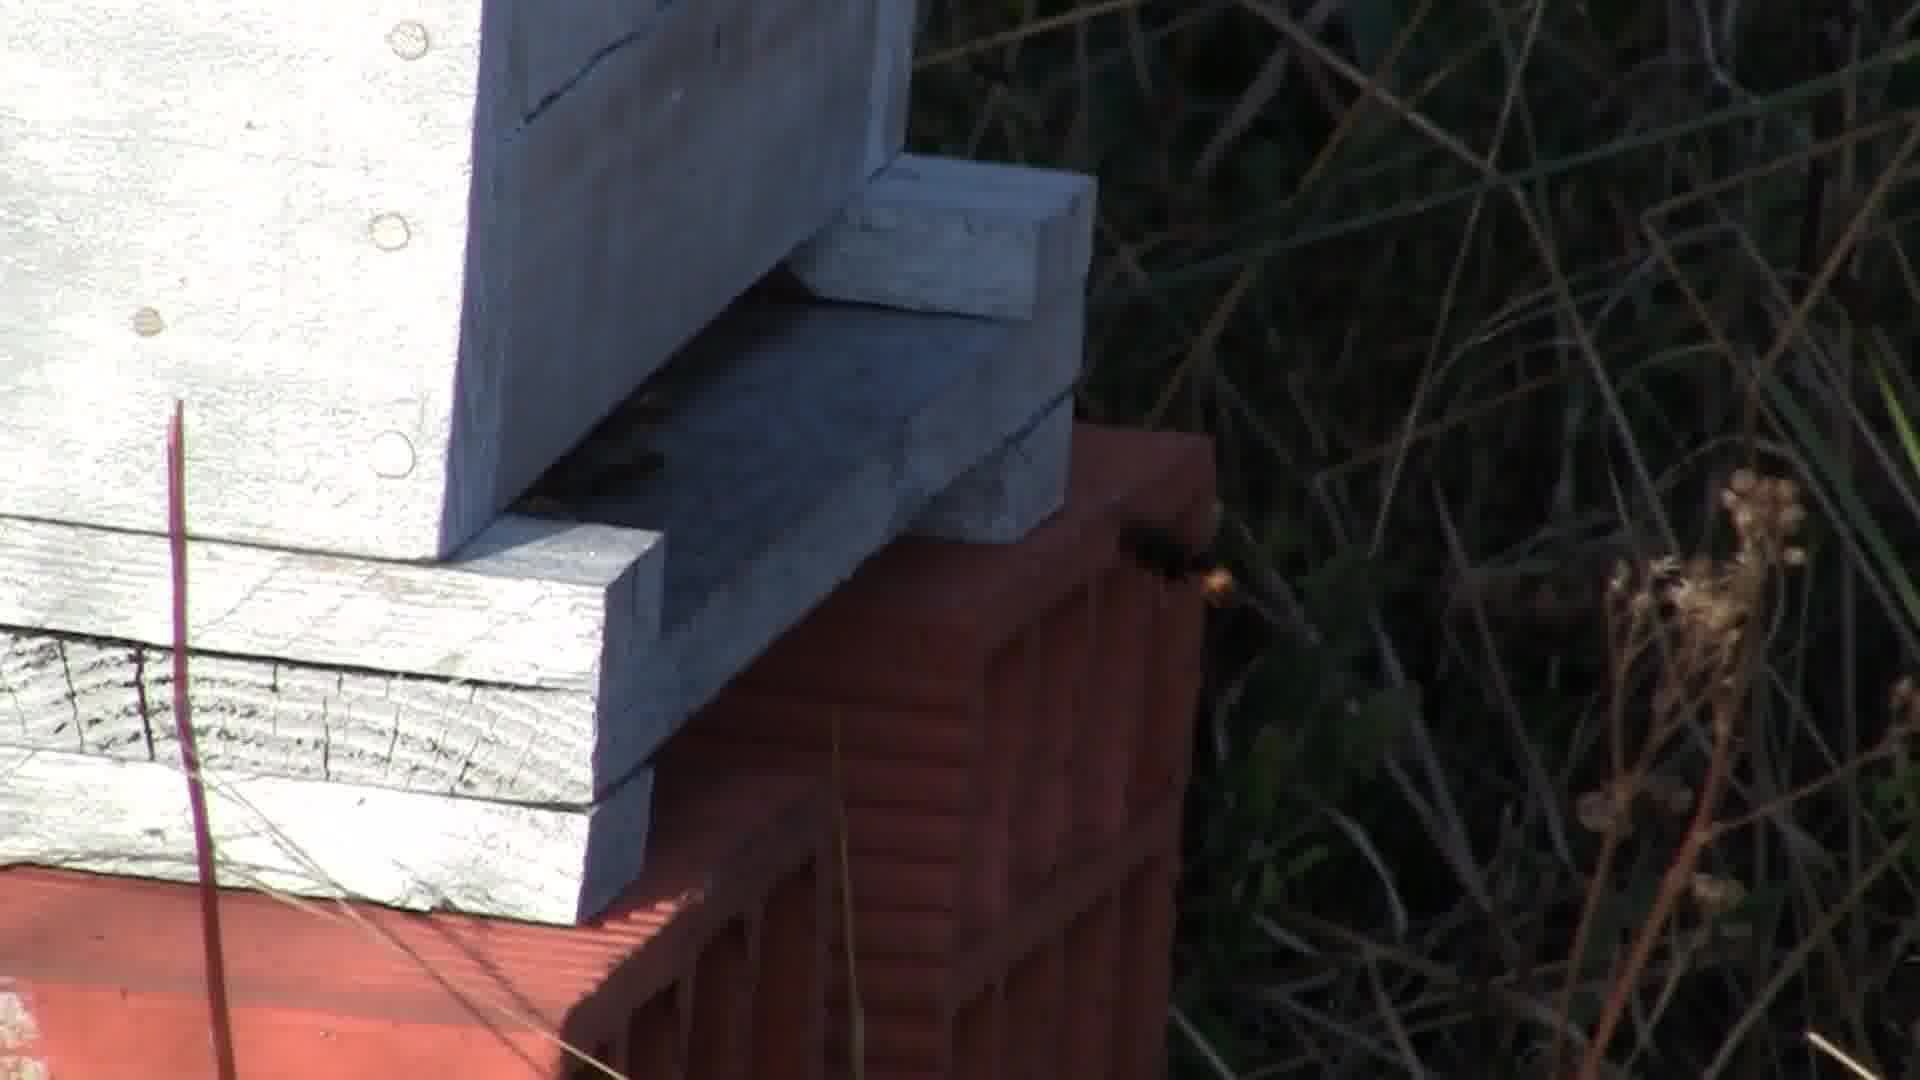hornet: (1098, 501, 1258, 615)
